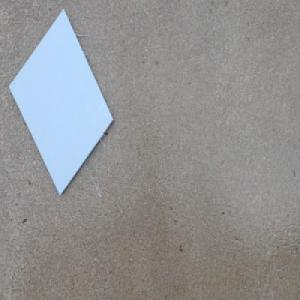PaintChip: (8, 8, 114, 196)
